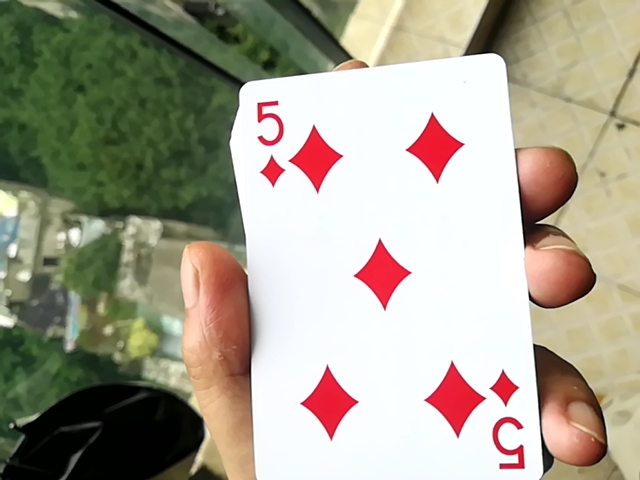fk 5: (211, 52, 550, 480)
